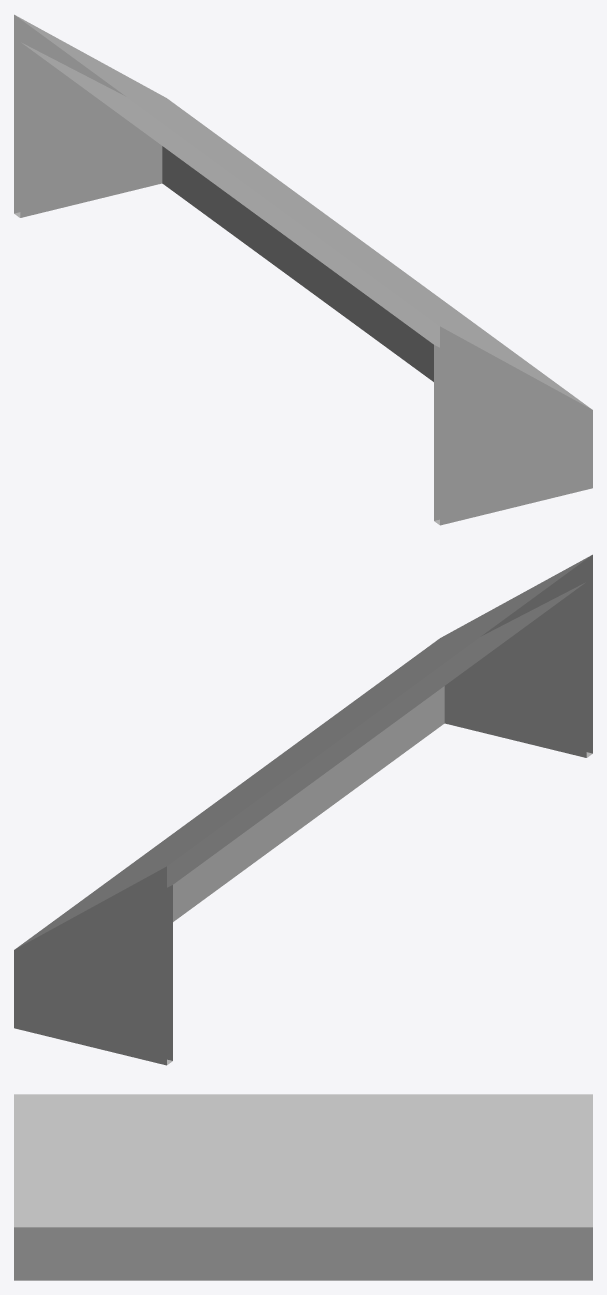
Rendered from awing_D.FBX.
3 views of the same model, one above another, from view 1: azimuth 30°, elevation 25°; view 2: azimuth 150°, elevation 25°; view 3: azimuth 270°, elevation 25° (orthographic). The views are drawn at different scales.
Visible parts, largest first — view 1: awning_D; view 2: awning_D; view 3: awning_D.
Part boxes in pixels (bbox=[...]): awning_D: bbox=[14, 14, 592, 525]; awning_D: bbox=[14, 554, 592, 1065]; awning_D: bbox=[14, 1094, 592, 1280].
Bounding box in the file's own units: 27.77 × 34.58 × 134.
